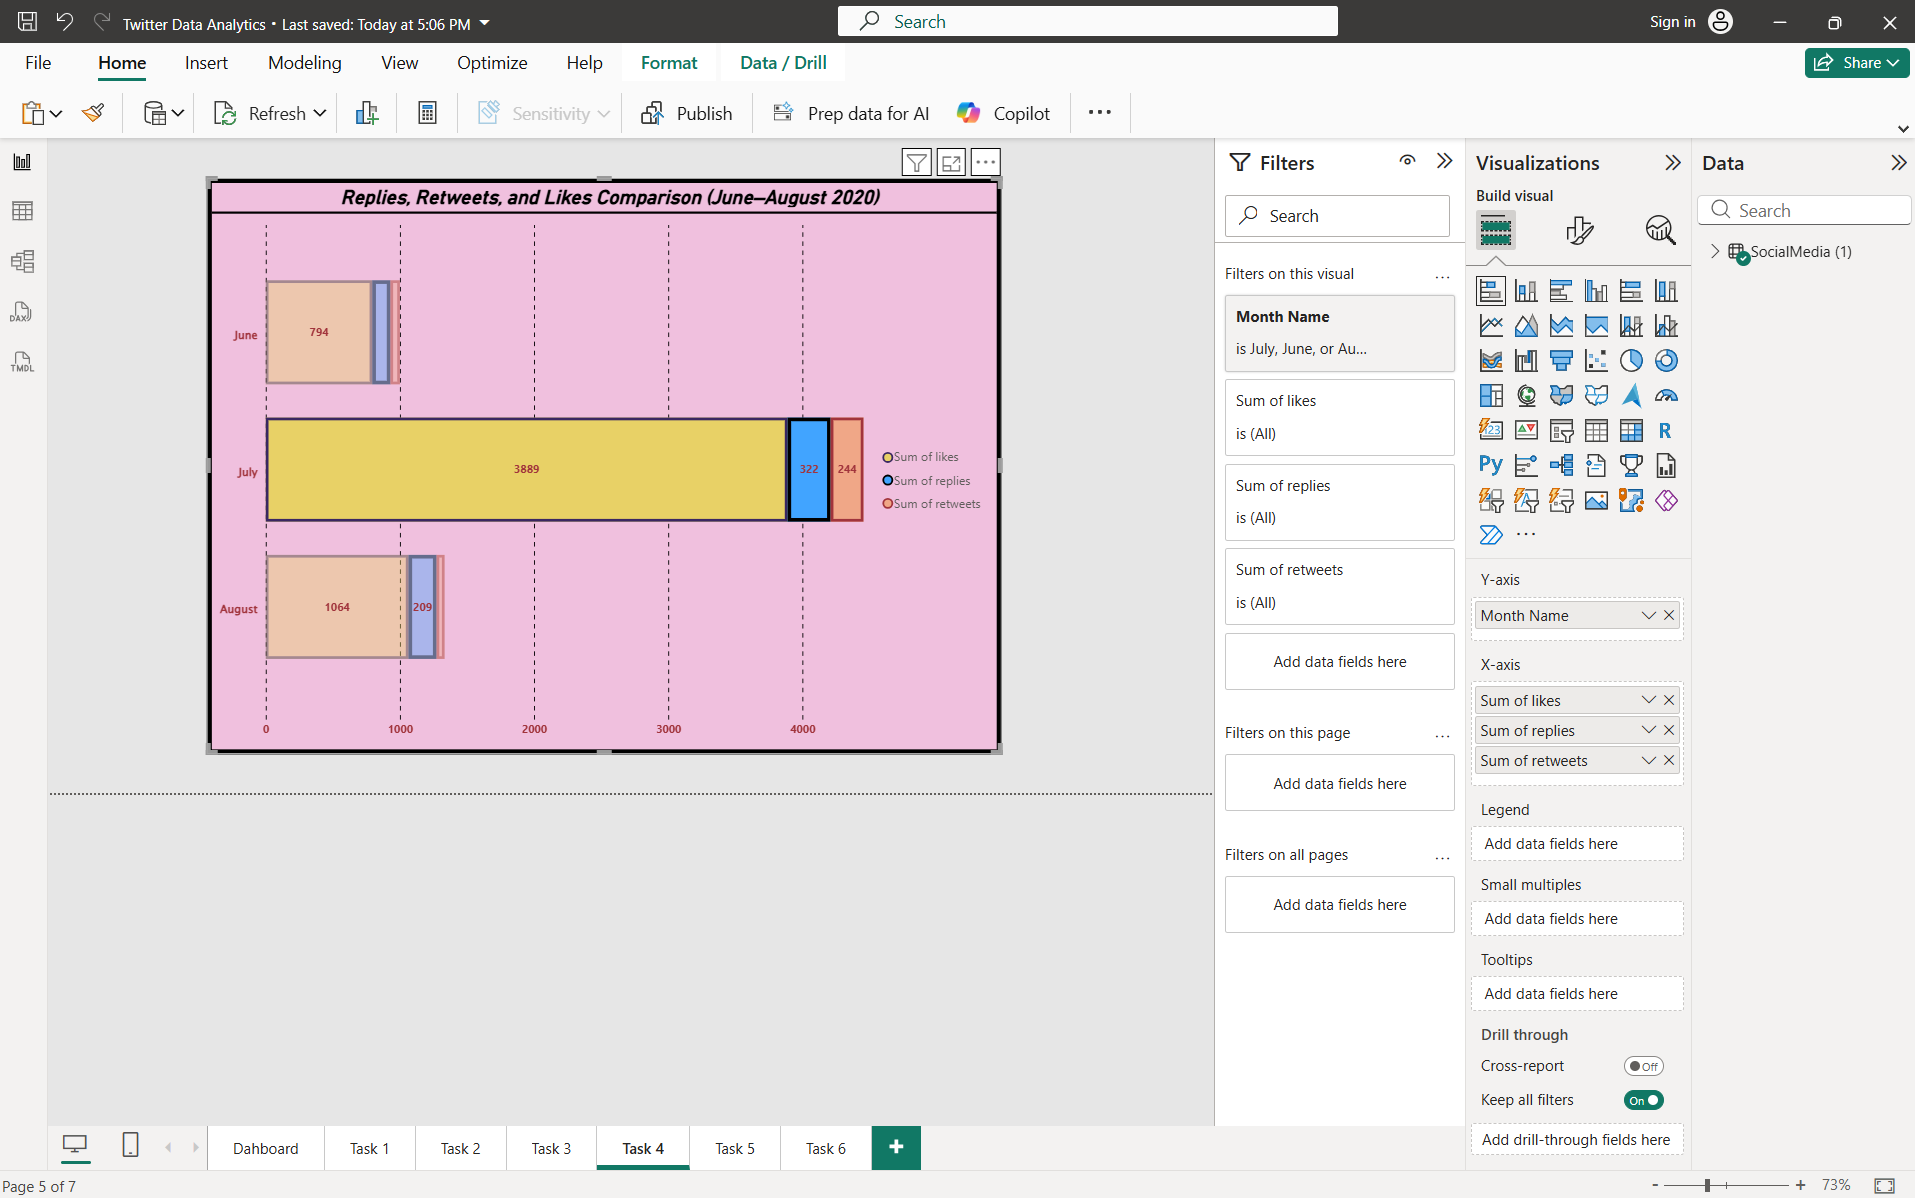

This screenshot's page, from the dashboard's own definition file:
{"tool":"powerbi","page":{"name":"Task 4","canvas":[1280,720],"ordinal":4},"visuals":[{"type":"barChart","title":"Replies, Retweets, and Likes Comparison (June–August 2020)","fields":{"Y":["Sum(SocialMedia (1).likes)","Sum(SocialMedia (1).replies)","Sum(SocialMedia (1).retweets)"],"Category":["SocialMedia (1).Month Name"]},"box":[174.3,43.9,872.7,632.6],"z":0}]}

Visuals, with their boxes on the page's 1280x720 design canvas (x1, y1, x2, y2). These are canvas units, not pixel positions in the 1915x1198 screenshot, which may show the page scaled, cropped or inside an application window:
"Replies, Retweets, and Likes Comparison (June–August 2020)" barChart: {"left": 174, "top": 44, "right": 1047, "bottom": 676}
